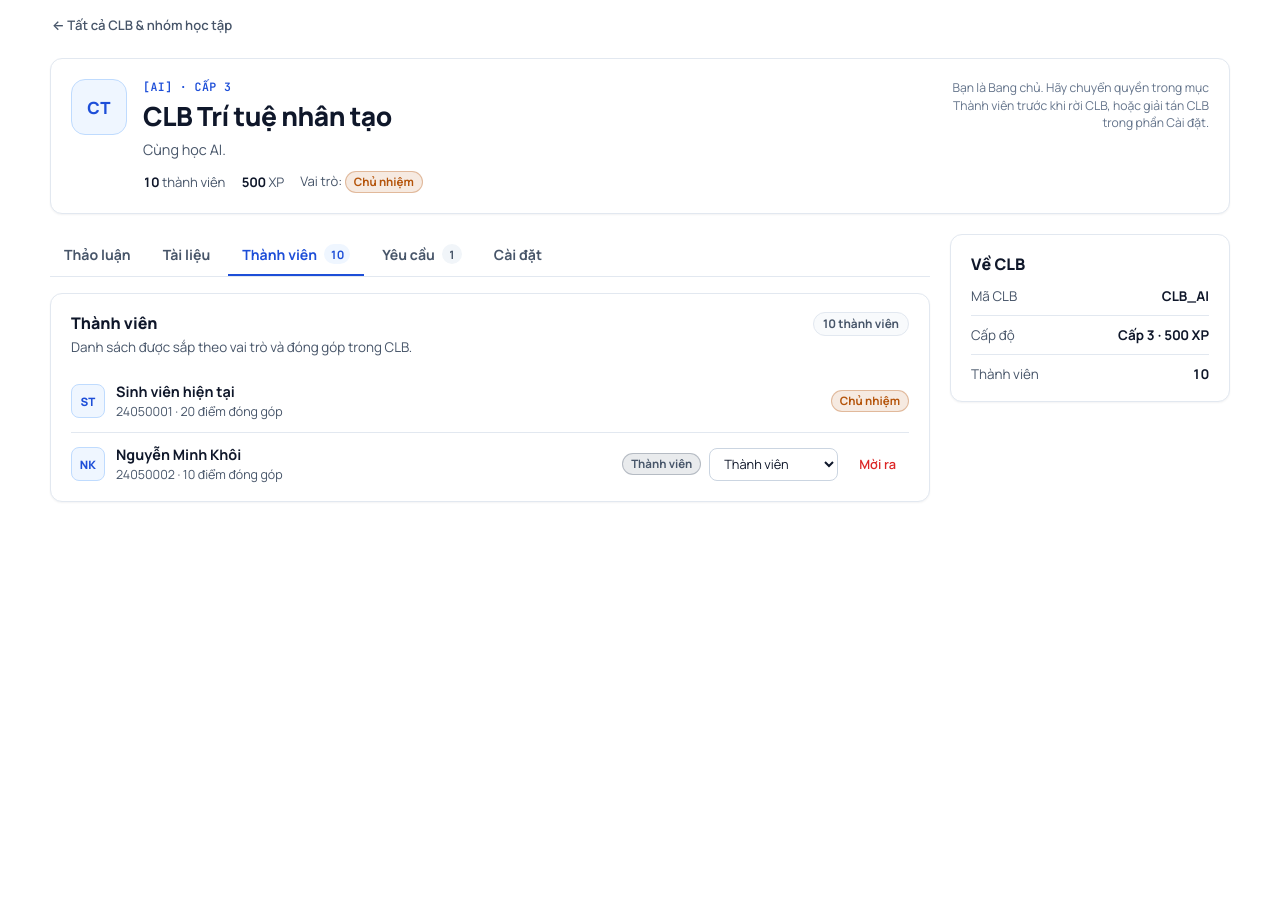
Scenario: clubs rebuild smoke › shows human-readable role labels in member dropdown and requires confirmation before transferring leader role
Expected: the tab "Yêu cầu 1" is shown, [368,234,476,276]
Expected: the tab "Cài đặt" is shown, [480,234,556,276]
Select "Chủ nhiệm" in the dropdown named "Đổi vai trò của Nguyễn Minh Khôi" at [774, 464], box [709,448,838,481]
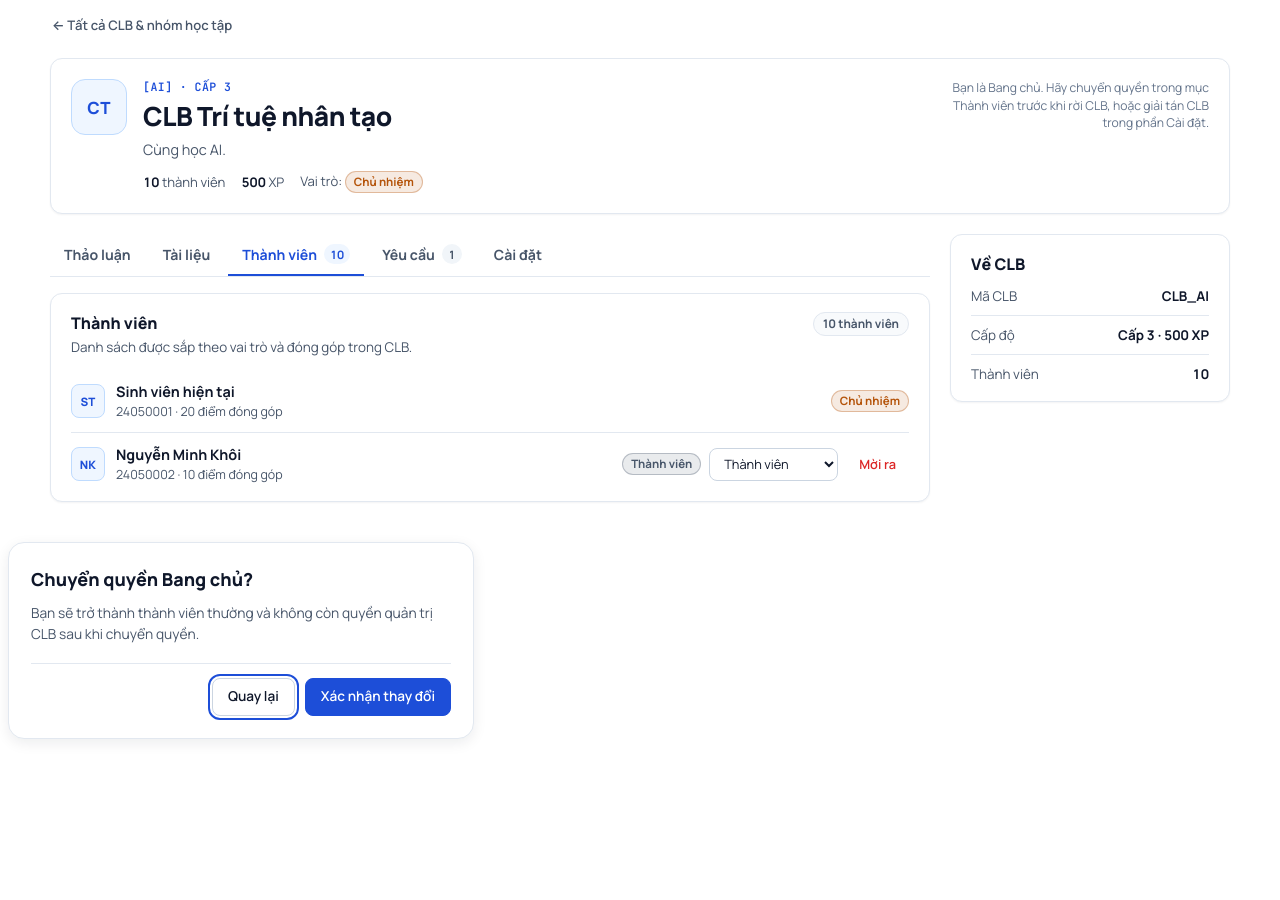
Now the heading "Chuyển quyền Bang chủ?" is shown, box [31,567,253,591]
